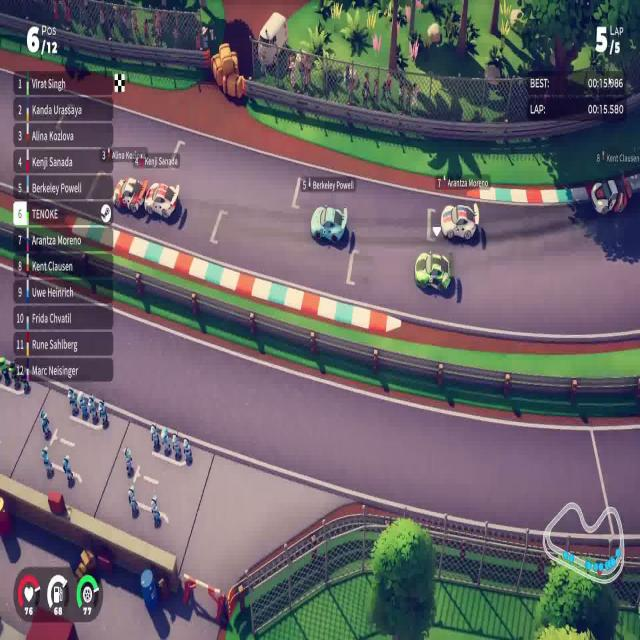car: (590, 172, 632, 216), (310, 203, 348, 246), (440, 201, 479, 242), (414, 250, 451, 293), (143, 181, 180, 220), (112, 175, 148, 214)
